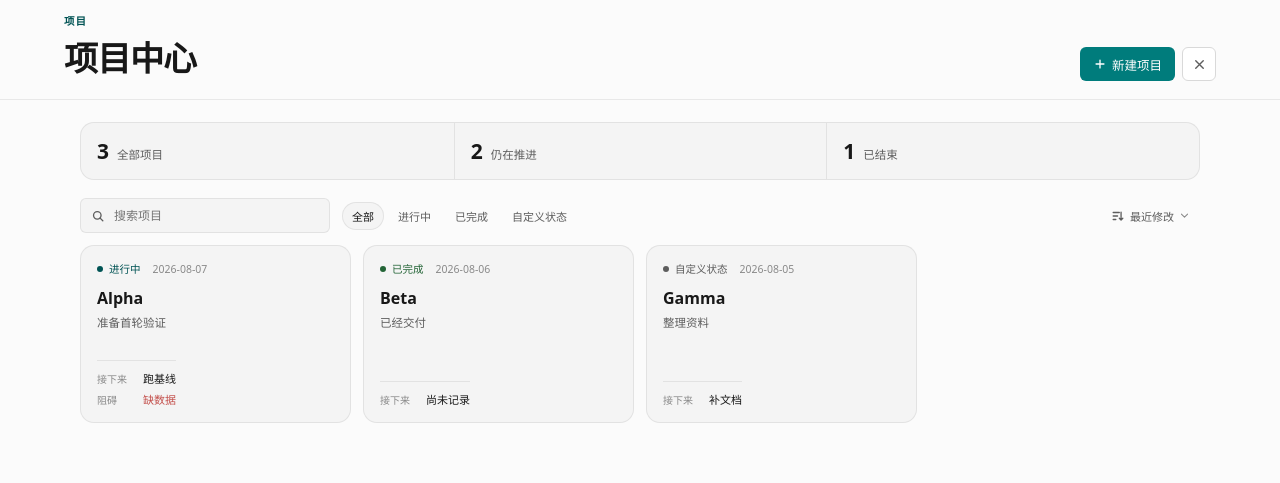
Scenario: 项目中心 › 右键（手机上长按）卡片可以改状态：列出词表里的状态，写回那篇项目的 frontmatter
The width and height of the screenshot is (1280, 483).
Right-click the button "进行中 2026-08-07 Alpha 准备首轮验证 接下来 跑基线 阻碍 缺数据" at (125, 269), box [80,245,351,423]
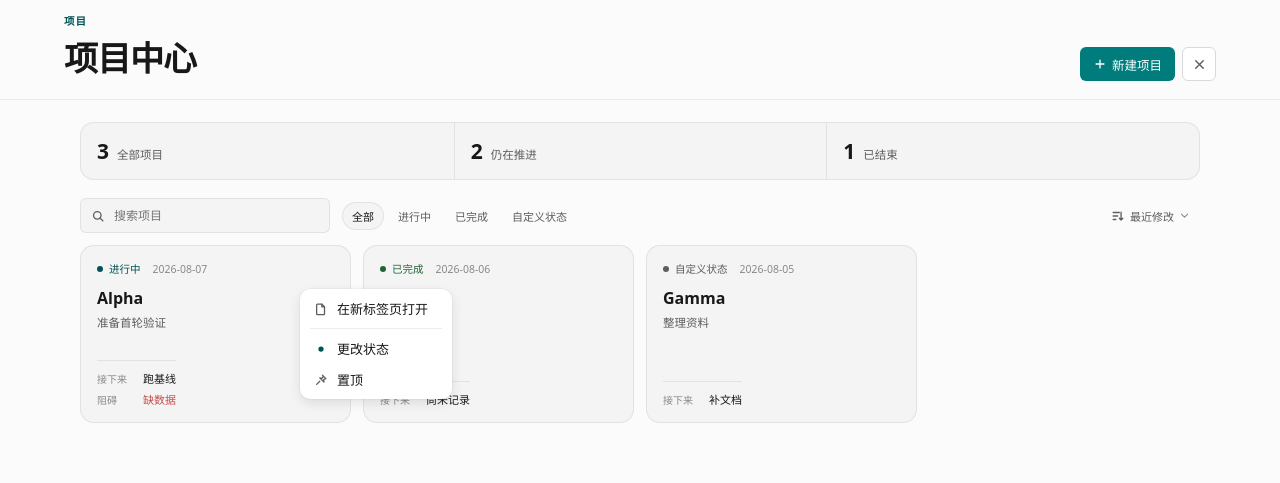
Click the button "更改状态" at (376, 348), box [304,333,448,364]
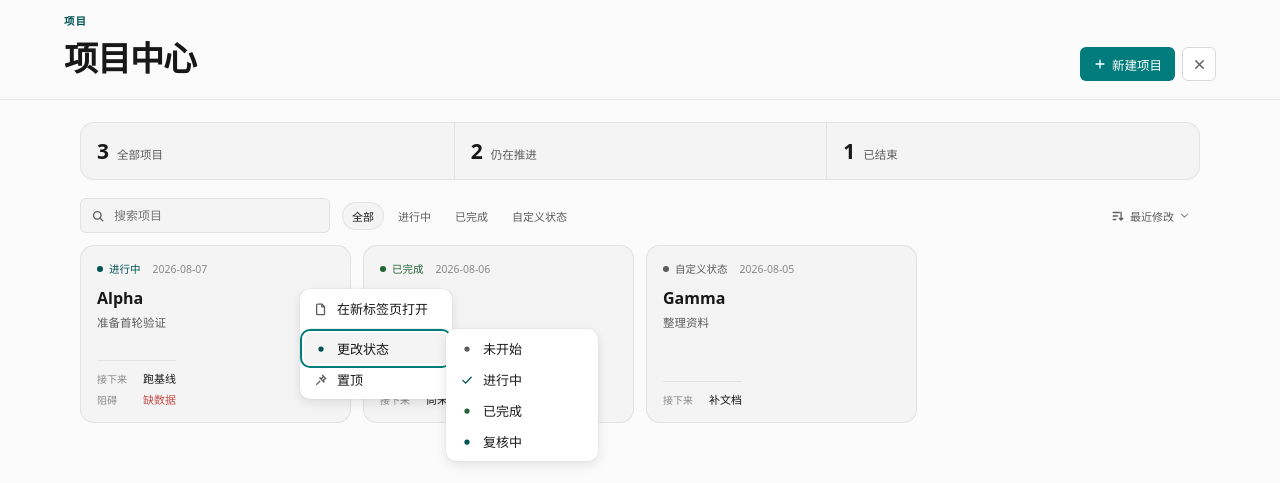
Click the 2nd button "已完成" at (522, 410), box [450,395,594,426]
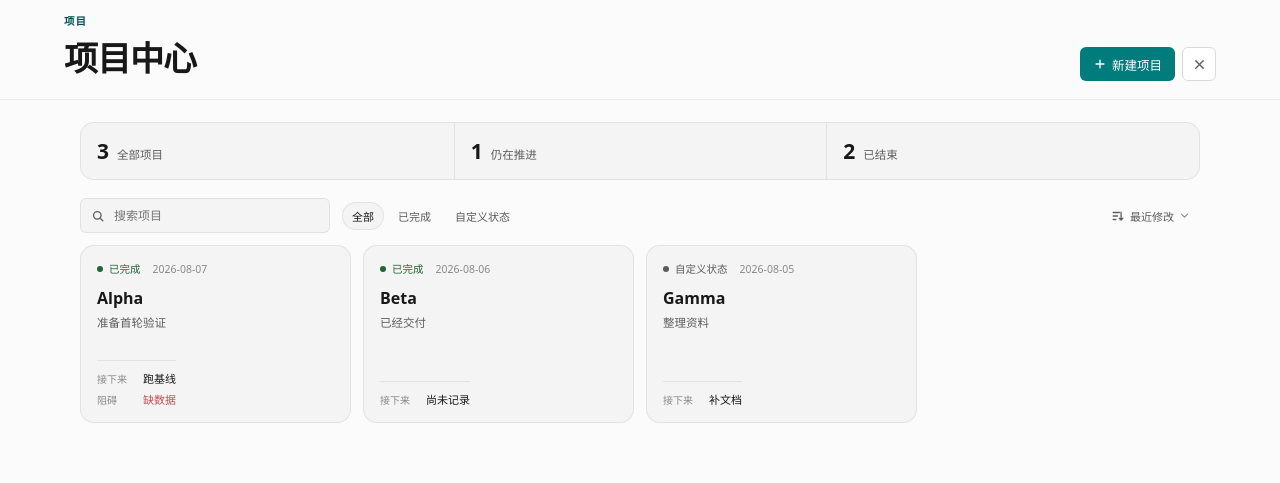
Result: the list with class "ctx" is gone
Result: the 1st element showing "已完成" is shown at [97,261,140,276]
